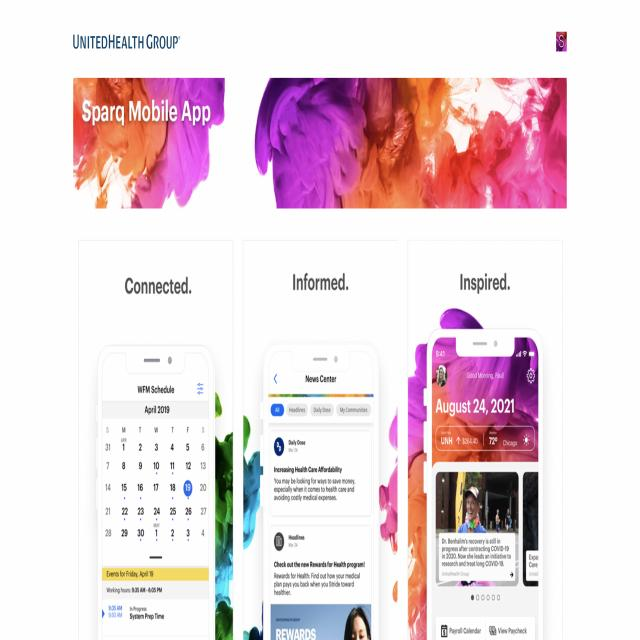Logo: (68, 24, 204, 68)
